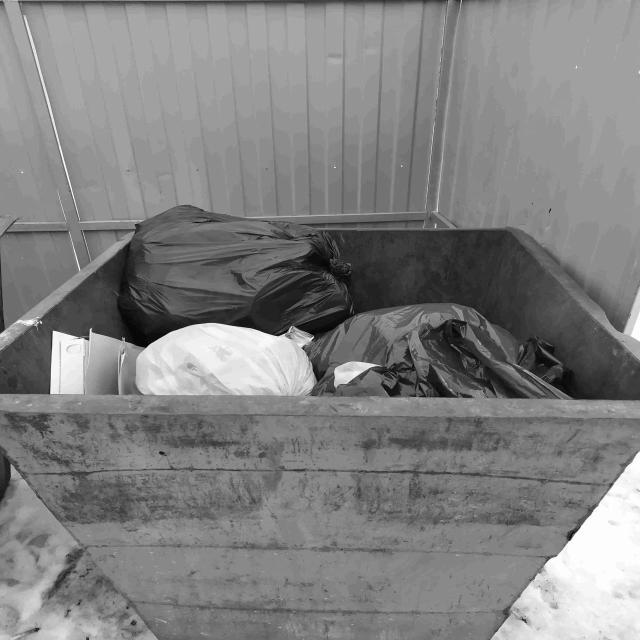bin: (0, 226, 640, 640), (0, 232, 135, 393)
plastic: (47, 204, 575, 400)
